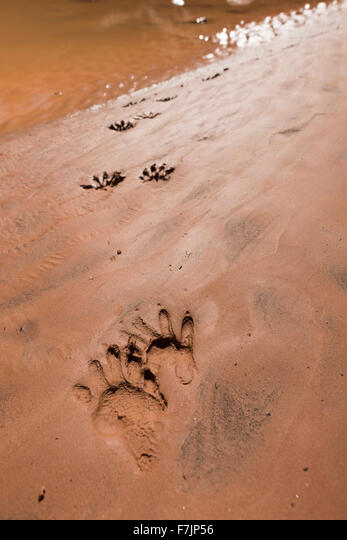raccoon: (26, 293, 228, 449)
